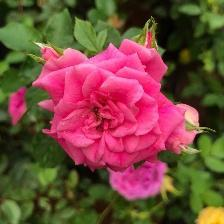rose: (30, 39, 193, 175)
